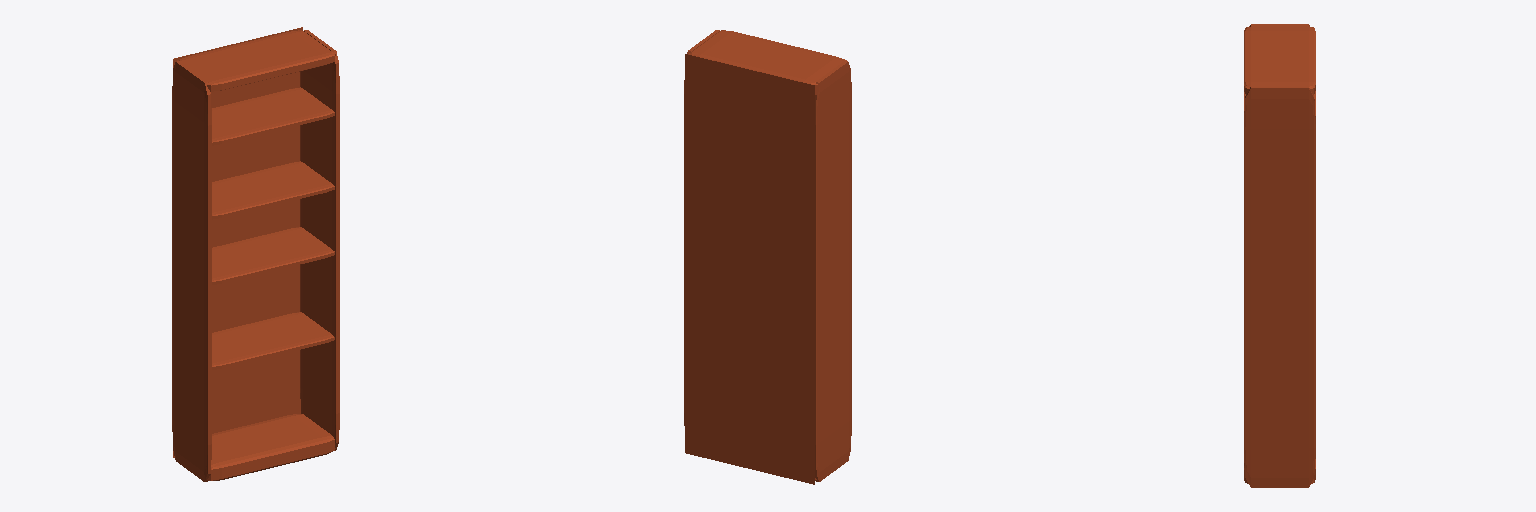
File: MrBookshelf.obj
3 renders of one model, left to right at view 1: azimuth 30°, elevation 25°; view 2: azimuth 150°, elevation 25°; view 3: azimuth 270°, elevation 25°, orthographic.
Visible parts, largest first — view 1: Box08, Box01, Box09, Box04, Box03, Box02, Box05, Box06, Box07; view 2: Box08, Box01, Box03; view 3: Box09, Box03.
Boxes of the visible parts, x1=… form: Box08: x1=173, y1=27, x2=302, y2=457; Box01: x1=172, y1=61, x2=211, y2=481; Box09: x1=300, y1=30, x2=339, y2=450; Box04: x1=207, y1=414, x2=335, y2=480; Box03: x1=177, y1=30, x2=335, y2=91; Box02: x1=212, y1=227, x2=334, y2=284; Box05: x1=212, y1=87, x2=334, y2=145; Box06: x1=212, y1=161, x2=334, y2=219; Box07: x1=212, y1=312, x2=334, y2=369; Box08: x1=685, y1=54, x2=814, y2=484; Box01: x1=815, y1=61, x2=851, y2=481; Box03: x1=689, y1=30, x2=846, y2=88; Box09: x1=1244, y1=87, x2=1315, y2=487; Box03: x1=1244, y1=26, x2=1315, y2=94.
Size of the model in its own units: 590 by 1700 by 281.